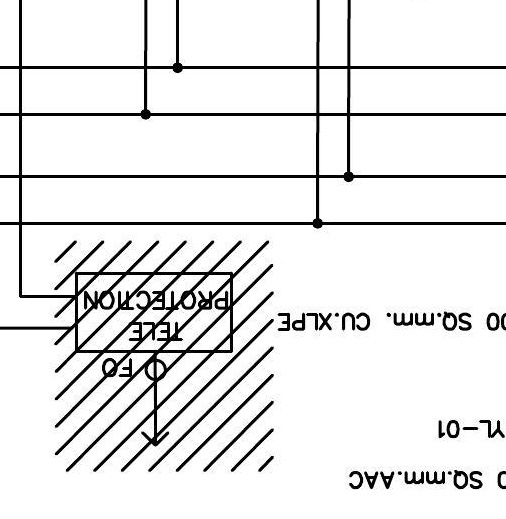tele_protection: (72, 269, 236, 356)
